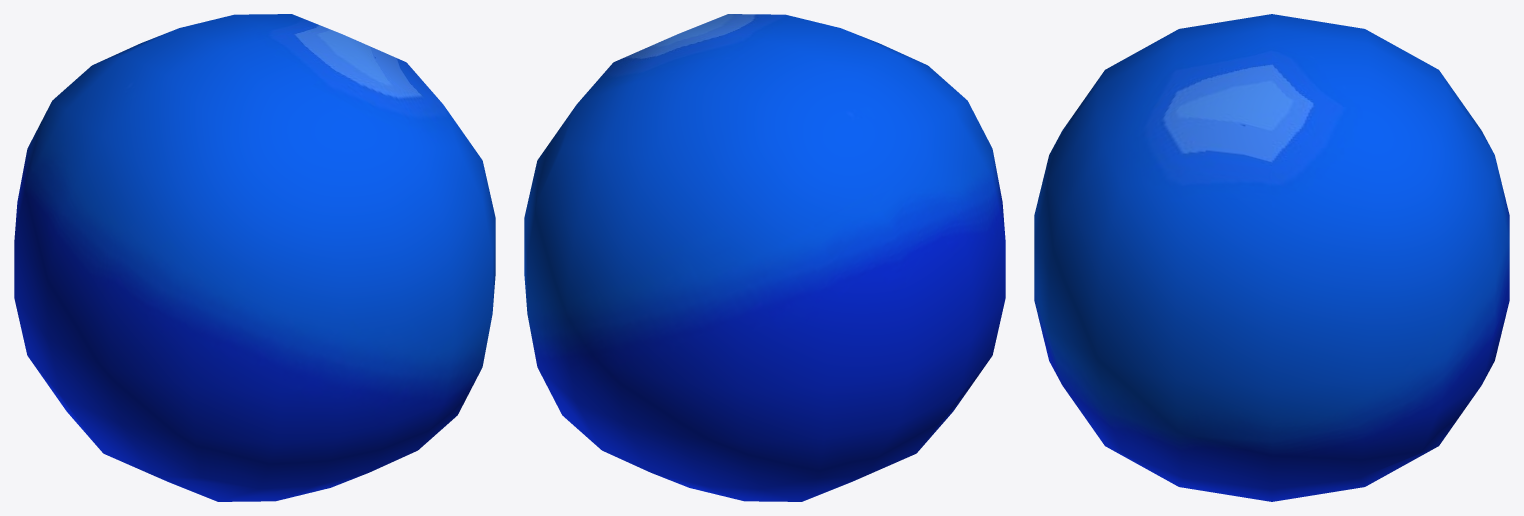
Rendered from SM_MOLECULA_PROTRON.fbx.
3 views of the same model, side by side, from view 1: azimuth 30°, elevation 25°; view 2: azimuth 150°, elevation 25°; view 3: azimuth 270°, elevation 25° (orthographic).
Parts seen in each view (by area): view 1: PROTON; view 2: PROTON; view 3: PROTON.
Boxes of the visible parts, x1,y1,x2,y2 form: PROTON: [14, 14, 495, 501]; PROTON: [524, 14, 1005, 501]; PROTON: [1034, 14, 1509, 501].
Bounding box in the file's own units: 15 × 15 × 15.
Materials: 1 (1 with a texture image).
